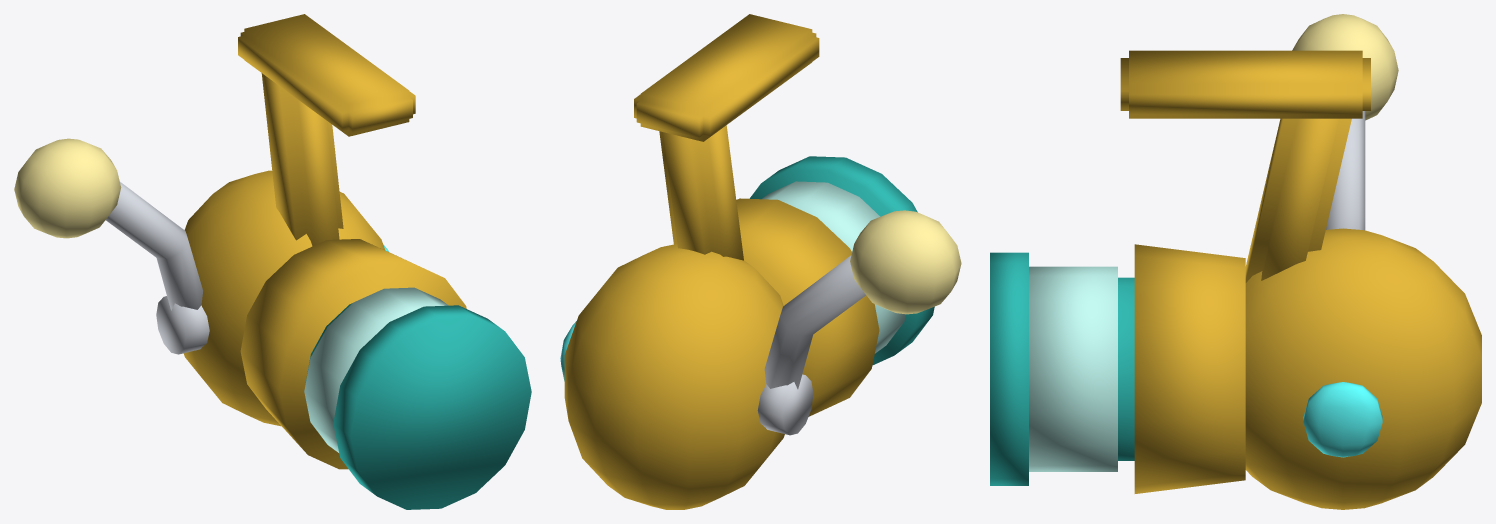
The model's file is reel_poseidon.fbx.
The picture shows the model from 3 angles, left to right: view 1: azimuth 30°, elevation 25°; view 2: azimuth 150°, elevation 25°; view 3: azimuth 270°, elevation 25°; orthographic projection. The views are drawn at different scales.
Visible parts, largest first — view 1: Body, Crank; view 2: Body, Crank; view 3: Body, Crank.
Boxes of the visible parts, bbox=[...] form: Body: bbox=[183, 14, 531, 509]; Crank: bbox=[14, 138, 209, 354]; Body: bbox=[560, 14, 934, 509]; Crank: bbox=[757, 210, 961, 435]; Body: bbox=[990, 50, 1481, 509]; Crank: bbox=[1292, 14, 1398, 230].
Bounding box in the file's own units: 0.13 × 0.13 × 0.1337.
